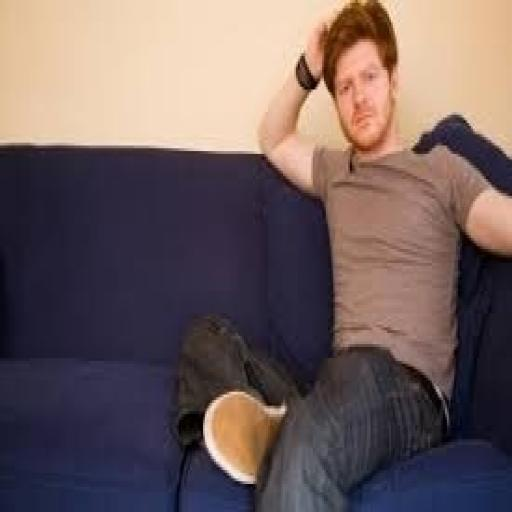sitting: (173, 0, 510, 509)
